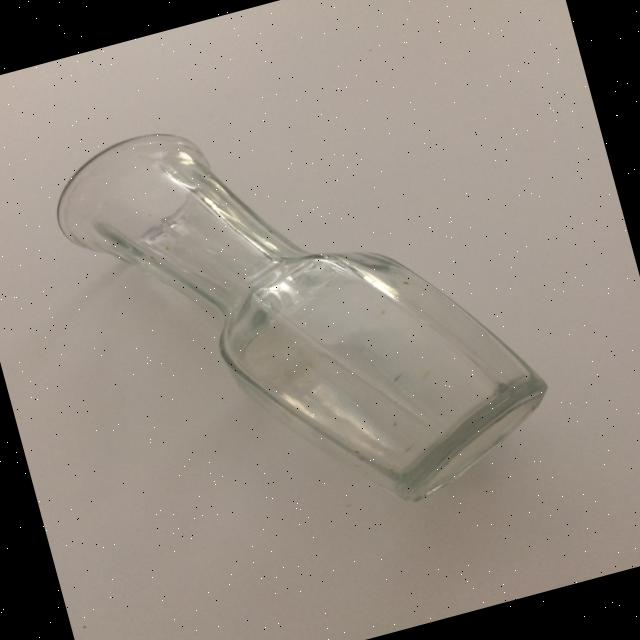glass: (41, 49, 568, 572)
